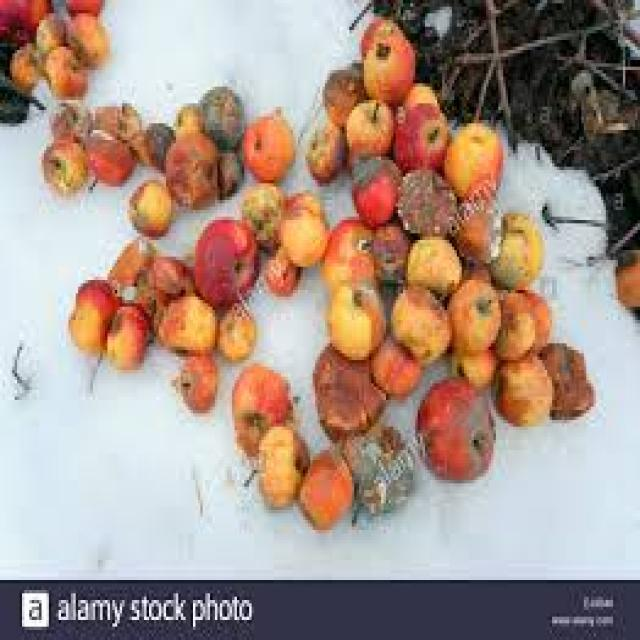biodegradable: (350, 0, 631, 120), (503, 40, 638, 167), (416, 373, 494, 477), (308, 337, 383, 440), (337, 420, 413, 520), (193, 213, 259, 307), (591, 137, 638, 263), (230, 363, 293, 450), (130, 254, 196, 334), (242, 420, 305, 503), (437, 117, 501, 197), (391, 283, 452, 360), (535, 340, 594, 417), (296, 447, 352, 527), (325, 280, 381, 357), (389, 100, 445, 177), (164, 123, 215, 207), (362, 24, 415, 104), (391, 163, 454, 230), (493, 354, 552, 424), (486, 210, 542, 283), (345, 150, 401, 223), (445, 197, 506, 263), (152, 290, 218, 350), (447, 270, 496, 350), (64, 277, 120, 347), (0, 30, 42, 120), (486, 287, 533, 357), (403, 233, 459, 290), (323, 213, 372, 277), (105, 233, 154, 297), (240, 180, 284, 250), (276, 207, 327, 267), (342, 93, 393, 150), (367, 340, 423, 390), (320, 63, 369, 120), (515, 280, 552, 350), (81, 127, 132, 177), (100, 303, 144, 360), (125, 173, 169, 230), (39, 140, 86, 190), (0, 0, 51, 46), (42, 43, 83, 100), (176, 353, 215, 410), (198, 83, 239, 137), (217, 300, 254, 357), (305, 117, 342, 173), (449, 343, 496, 387), (367, 220, 401, 280), (108, 103, 144, 157), (61, 7, 103, 53), (608, 247, 638, 310), (261, 247, 298, 297), (142, 117, 171, 173), (8, 37, 42, 83), (46, 100, 83, 140), (30, 10, 64, 53), (88, 90, 122, 130), (215, 144, 239, 194), (396, 77, 432, 110), (450, 257, 489, 287), (278, 190, 320, 217), (357, 17, 391, 50), (64, 0, 103, 17), (179, 103, 196, 130)
